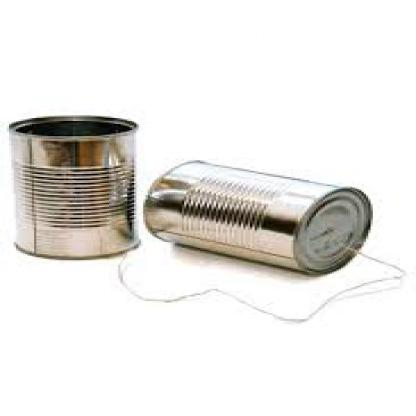METAL: (143, 159, 371, 272), (6, 114, 138, 258)
